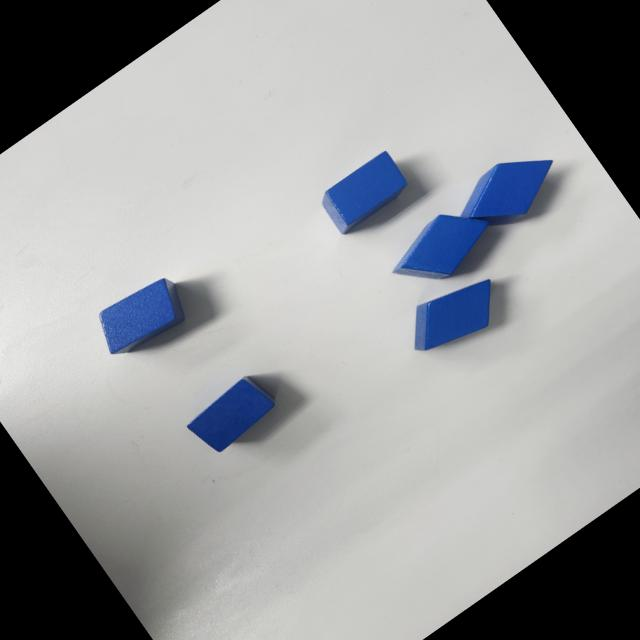blue: (446, 135, 568, 246), (380, 194, 501, 303), (395, 262, 512, 368), (86, 267, 195, 366), (180, 370, 282, 460), (316, 148, 412, 236)
